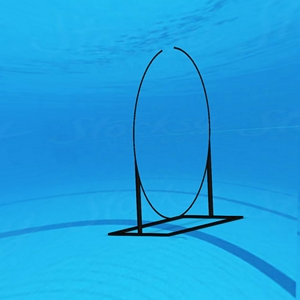circle: (105, 44, 246, 244)
